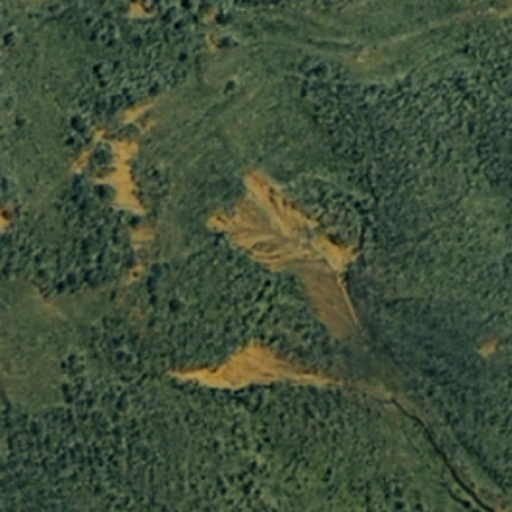landslide: (209, 170, 358, 279), (74, 129, 153, 276), (170, 346, 342, 389)
